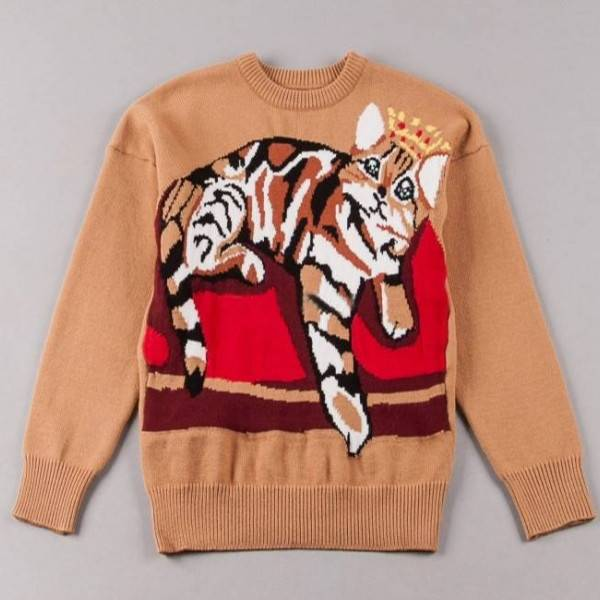cat: (339, 99, 454, 238)
